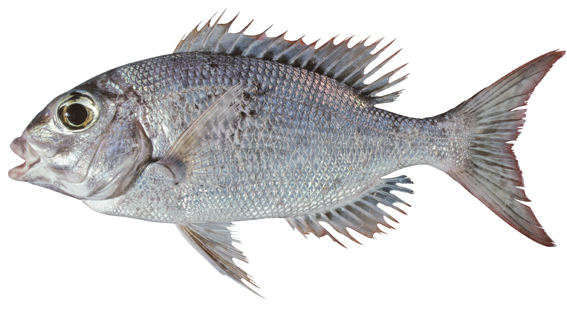fish: (9, 9, 567, 298)
